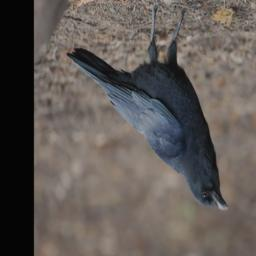Crow: (67, 0, 231, 211)
